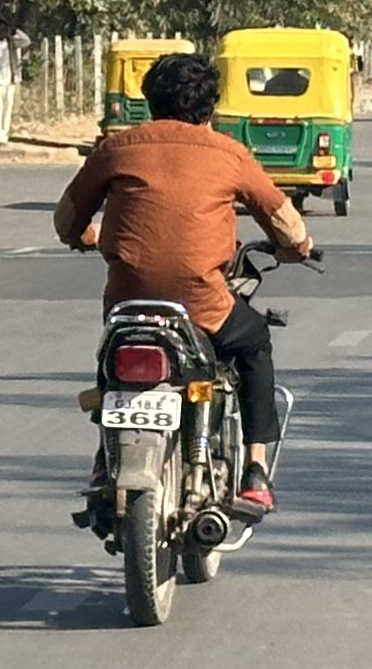BikeWithRider: (43, 46, 332, 632)
NoHelmet: (131, 47, 232, 135)
